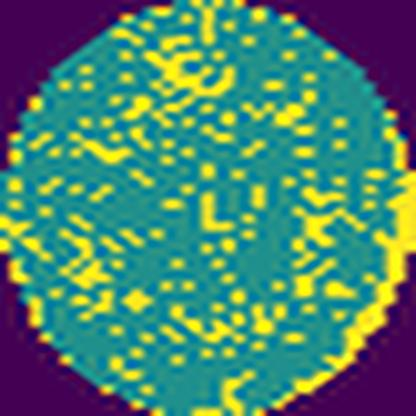Edge-Loc: (254, 172, 414, 416)
